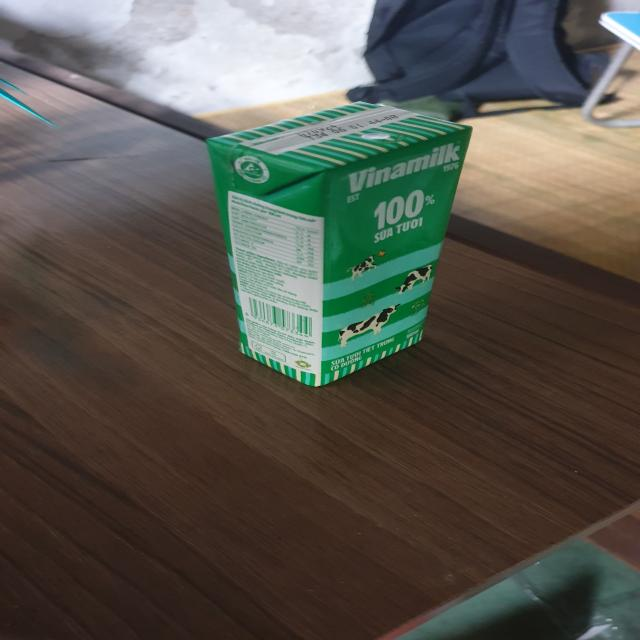Vina: (204, 107, 478, 387)
